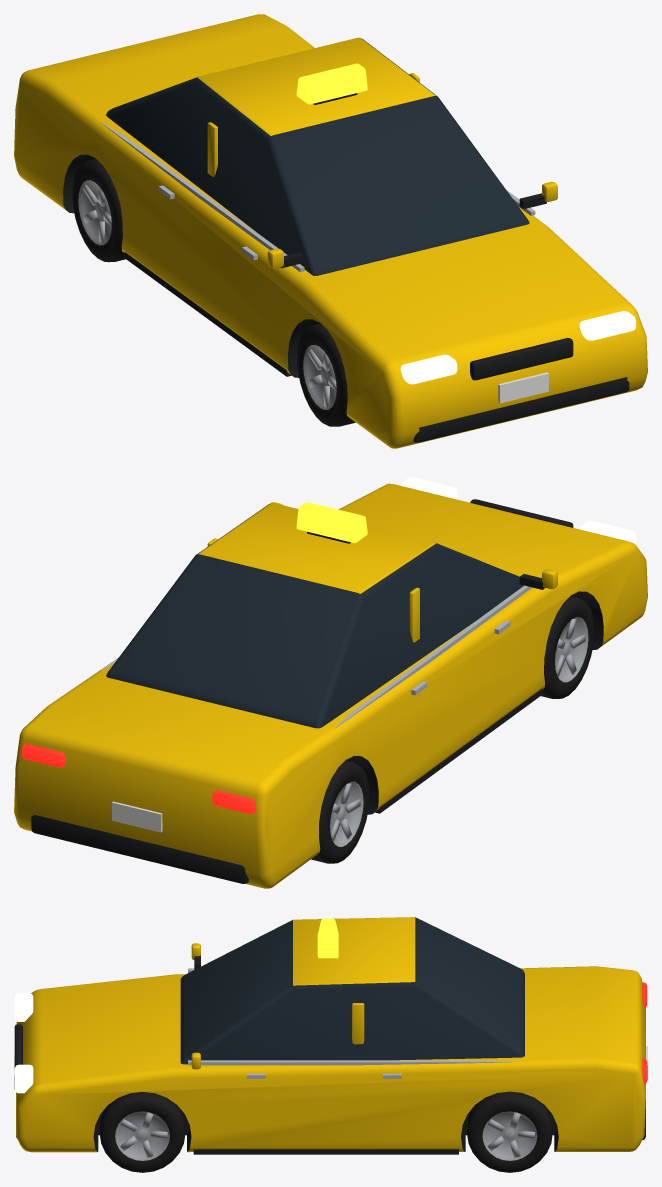
The model's file is taxi.glb.
3 renders of one model, top to bottom at view 1: azimuth 30°, elevation 25°; view 2: azimuth 150°, elevation 25°; view 3: azimuth 270°, elevation 25°, orthographic. The views are drawn at different scales.
Visible parts, largest first — view 1: body, wheel_rr, wheel_fr; view 2: body, wheel_rr, wheel_fr; view 3: body, wheel_rl, wheel_fl.
Boxes of the visible parts, <box> form: body: <box>14,14,647,448</box>; wheel_rr: <box>72,158,125,262</box>; wheel_fr: <box>297,323,355,426</box>; body: <box>14,477,647,888</box>; wheel_rr: <box>311,760,369,863</box>; wheel_fr: <box>541,595,594,698</box>; body: <box>14,917,647,1154</box>; wheel_rl: <box>467,1091,552,1172</box>; wheel_fl: <box>99,1092,185,1172</box>.
Size of the model in its own units: 1.99 by 1.58 by 4.66.
